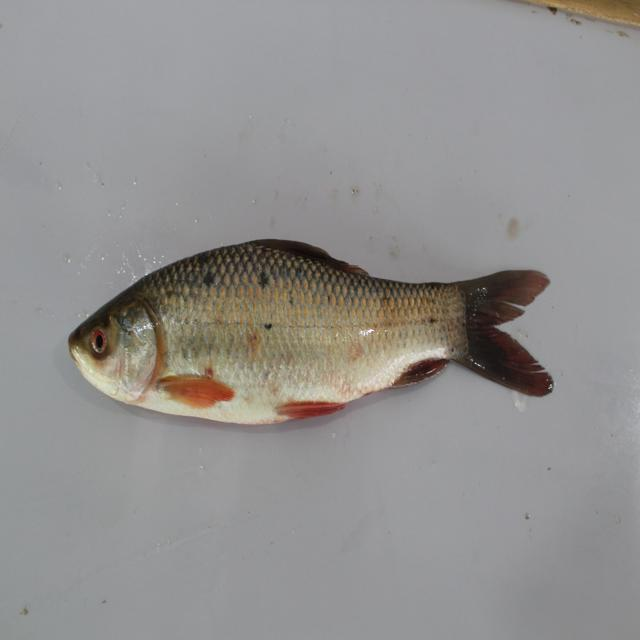Rohu: (55, 234, 561, 424)
